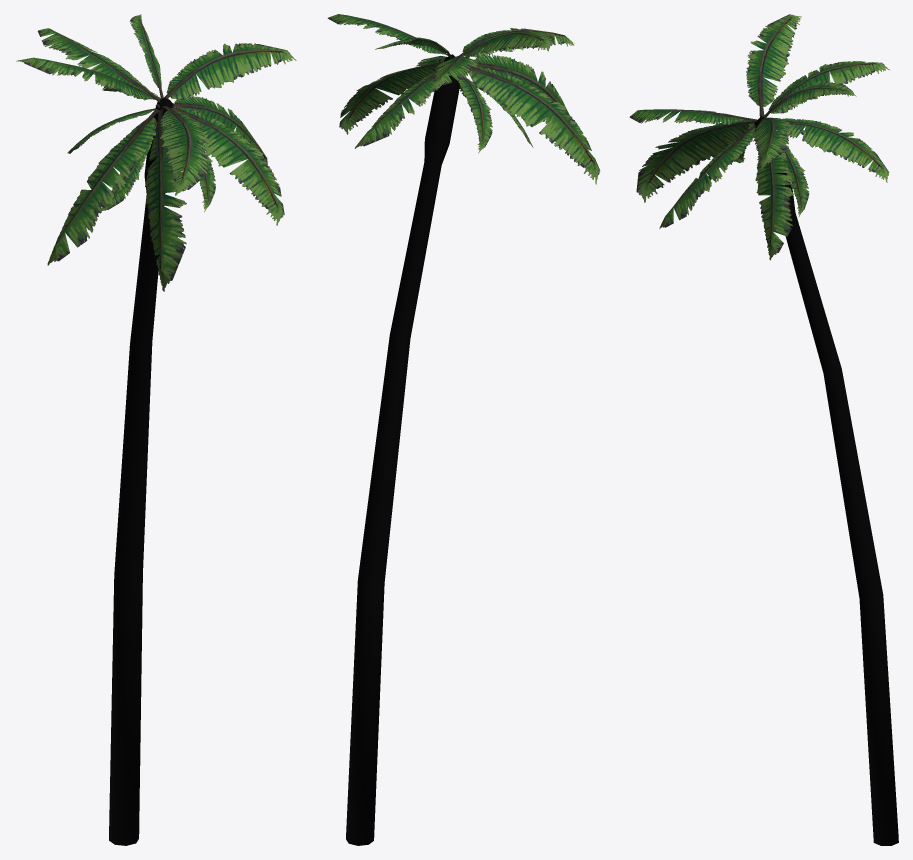
File: tree_02a_ds.fbx
The picture shows the model from 3 angles, left to right: view 1: azimuth 30°, elevation 25°; view 2: azimuth 150°, elevation 25°; view 3: azimuth 270°, elevation 25°; orthographic projection. The views are drawn at different scales.
Visible parts, largest first — view 1: tree_02a_ds; view 2: tree_02a_ds; view 3: tree_02a_ds.
Part boxes in pixels (<box>): tree_02a_ds: <box>16,14,296,845</box>; tree_02a_ds: <box>327,14,600,845</box>; tree_02a_ds: <box>629,14,898,845</box>.
Size of the model in its own units: 5.73 by 17.39 by 5.58.
